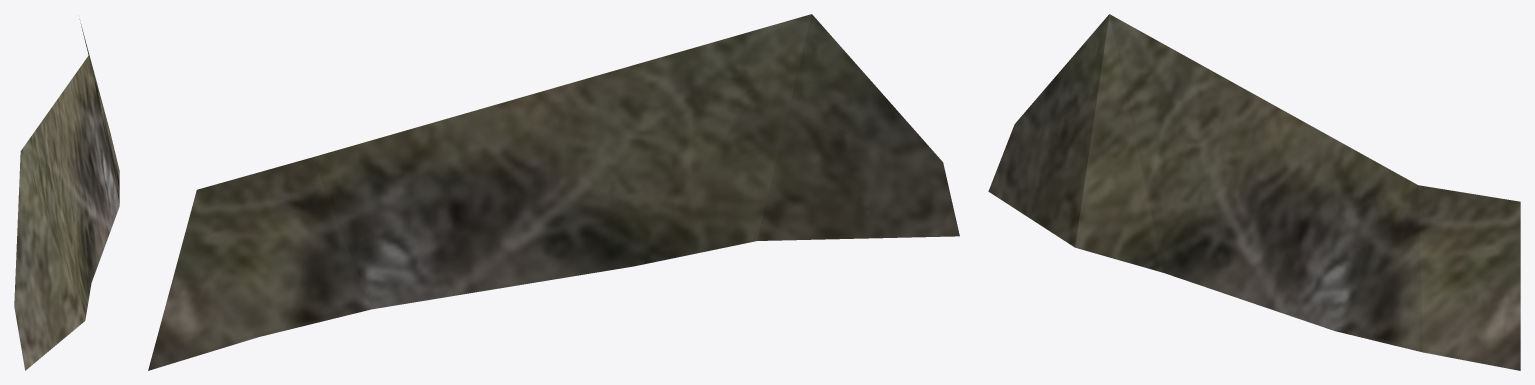
The picture shows the model from 3 angles, left to right: view 1: azimuth 30°, elevation 25°; view 2: azimuth 150°, elevation 25°; view 3: azimuth 270°, elevation 25°; orthographic projection. The views are drawn at different scales.
Size of the model in its own units: 4.24 by 2.25 by 5.31.
1 material, 1 textured.
